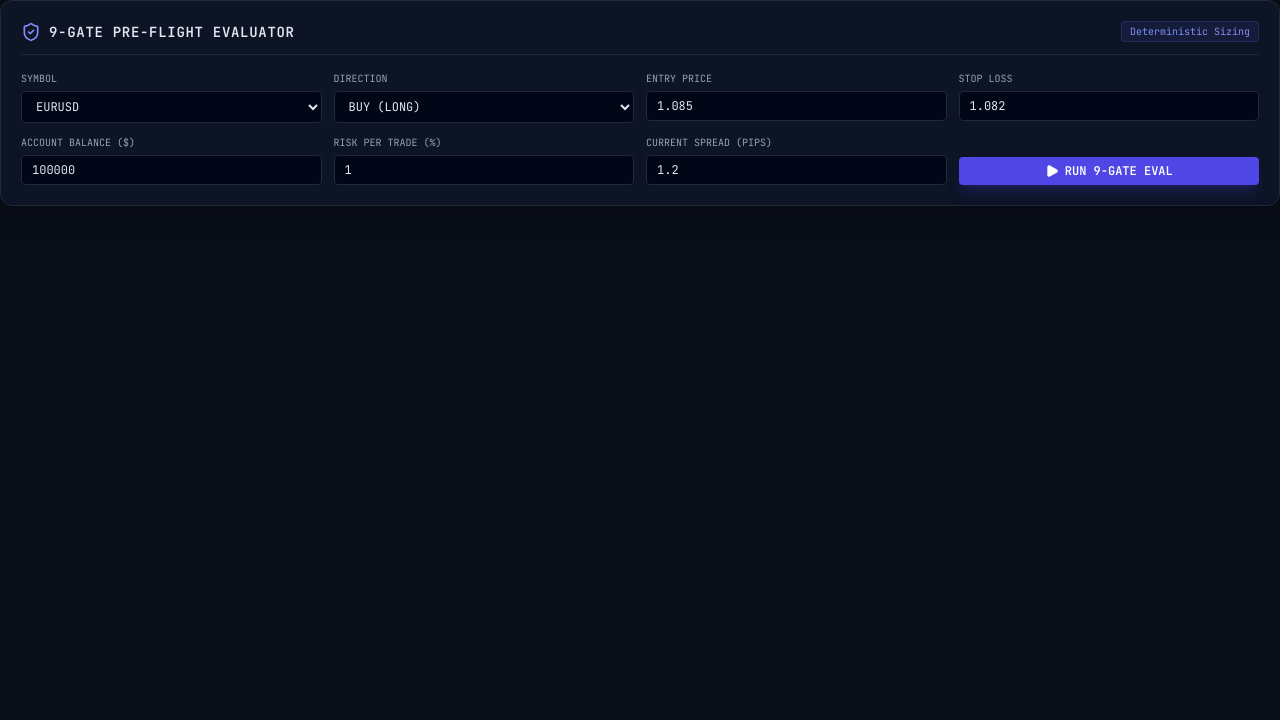
PreFlightTerminal Component › displays APPROVED verdict and 9-gate checks when all gates pass
Click the button "RUN 9-GATE EVAL" at x=1109, y=171, box [958,157,1259,185]
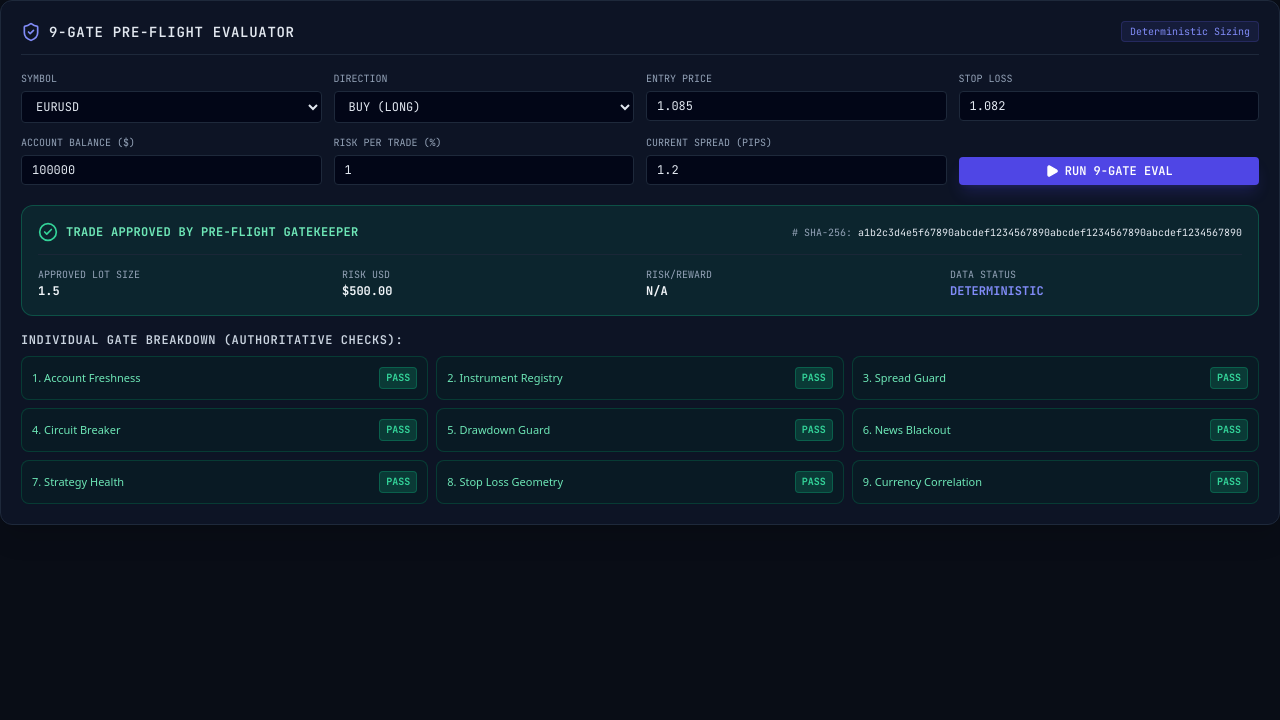
Now the text "TRADE APPROVED BY PRE-FLIGHT GATEKEEPER" is shown, box [66,224,358,240]
Now the text "a1b2c3d4e5f6" is shown, box [858,226,1242,238]
Now the text "1. Account Freshness" is shown, box [32,370,149,386]
